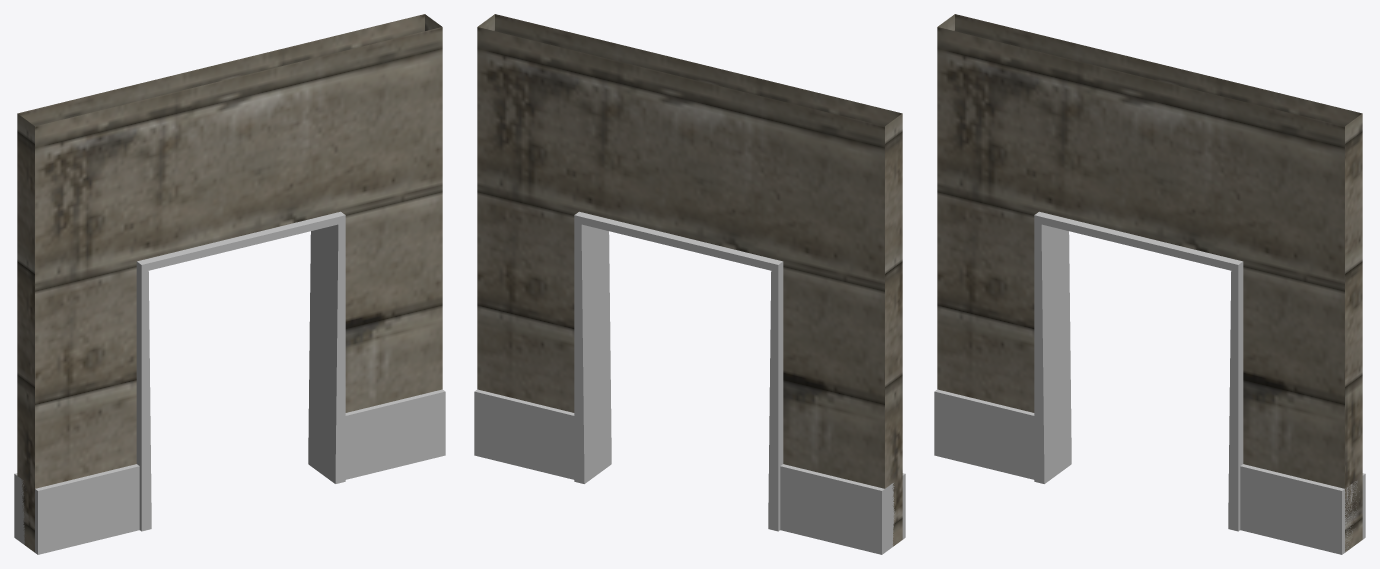
File: MO_WALL_S_DOOR_03.fbx
3 views of the same model, side by side, from view 1: azimuth 30°, elevation 25°; view 2: azimuth 150°, elevation 25°; view 3: azimuth 330°, elevation 25° (orthographic).
Parts seen in each view (by area): view 1: MO_WALL_S_DOOR_03; view 2: MO_WALL_S_DOOR_03; view 3: MO_WALL_S_DOOR_03.
Part boxes in pixels (<box>): MO_WALL_S_DOOR_03: <box>14,14,445,554</box>; MO_WALL_S_DOOR_03: <box>474,14,905,554</box>; MO_WALL_S_DOOR_03: <box>934,14,1365,554</box>.
Size of the model in its own units: 4 by 4 by 0.464.
